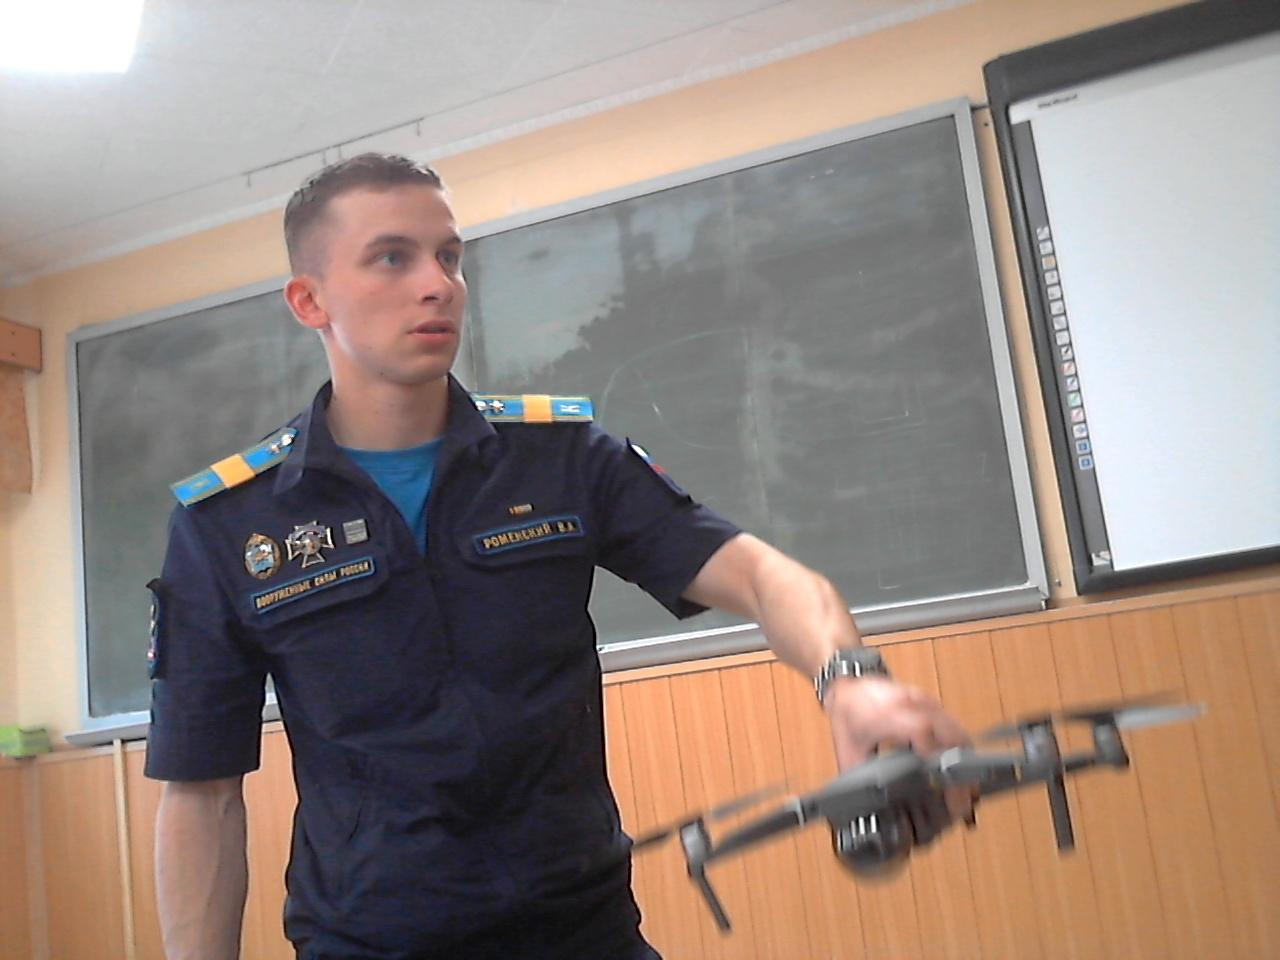drone: (634, 688, 1218, 960)
